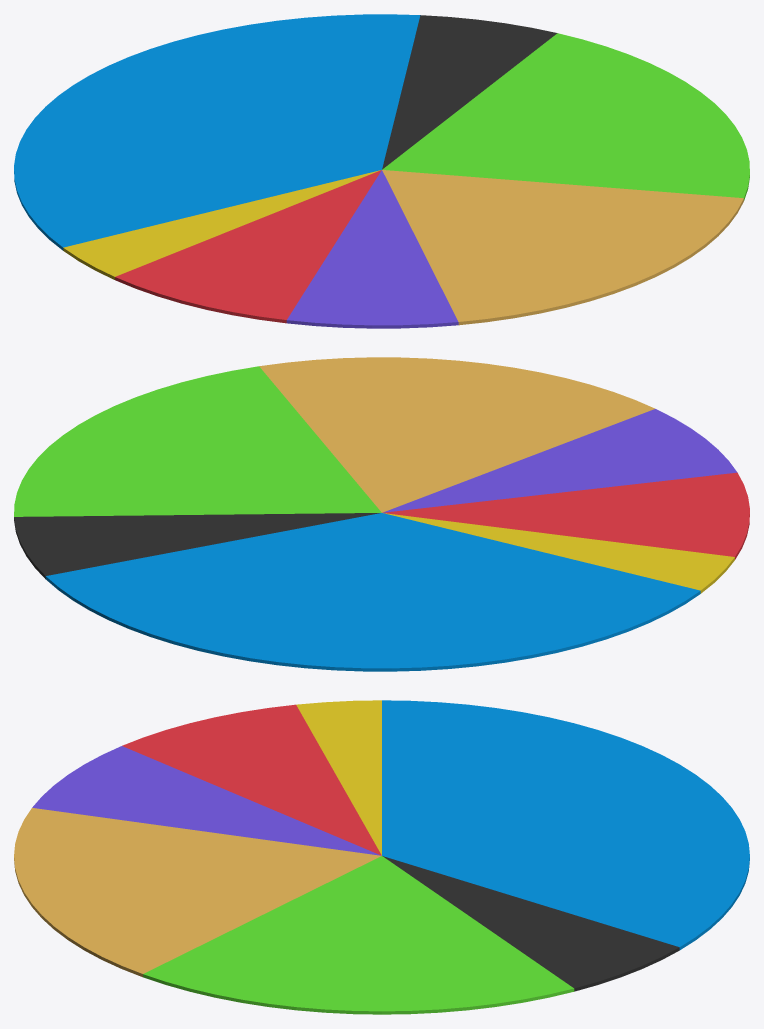
The model's file is Diagram.fbx.
The picture shows the model from 3 angles, top to bottom: view 1: azimuth 30°, elevation 25°; view 2: azimuth 150°, elevation 25°; view 3: azimuth 270°, elevation 25°; orthographic projection.
Parts seen in each view (by area): view 1: Strom, Industrie, Verkehr, Landwirtschaft, Sonstiges, Hauser, Zement; view 2: Strom, Industrie, Verkehr, Landwirtschaft, Sonstiges, Hauser, Zement; view 3: Strom, Industrie, Verkehr, Landwirtschaft, Sonstiges, Hauser, Zement.
Boxes of the visible parts, x1=… form: Strom: x1=14, y1=14, x2=420, y2=250; Industrie: x1=382, y1=33, x2=749, y2=200; Verkehr: x1=382, y1=170, x2=743, y2=325; Landwirtschaft: x1=115, y1=170, x2=381, y2=323; Sonstiges: x1=286, y1=170, x2=458, y2=328; Hauser: x1=382, y1=15, x2=557, y2=169; Zement: x1=63, y1=170, x2=380, y2=279; Strom: x1=45, y1=513, x2=700, y2=671; Industrie: x1=14, y1=366, x2=381, y2=516; Verkehr: x1=259, y1=357, x2=654, y2=512; Landwirtschaft: x1=382, y1=472, x2=749, y2=559; Sonstiges: x1=383, y1=409, x2=737, y2=512; Hauser: x1=14, y1=513, x2=379, y2=578; Zement: x1=383, y1=513, x2=734, y2=593; Strom: x1=382, y1=700, x2=749, y2=949; Industrie: x1=143, y1=856, x2=574, y2=1014; Verkehr: x1=14, y1=808, x2=381, y2=977; Landwirtschaft: x1=122, y1=704, x2=381, y2=855; Sonstiges: x1=32, y1=746, x2=380, y2=855; Hauser: x1=382, y1=856, x2=679, y2=991; Zement: x1=296, y1=700, x2=381, y2=855.
Bounding box in the file's own units: 200 × 0.98 × 200.
